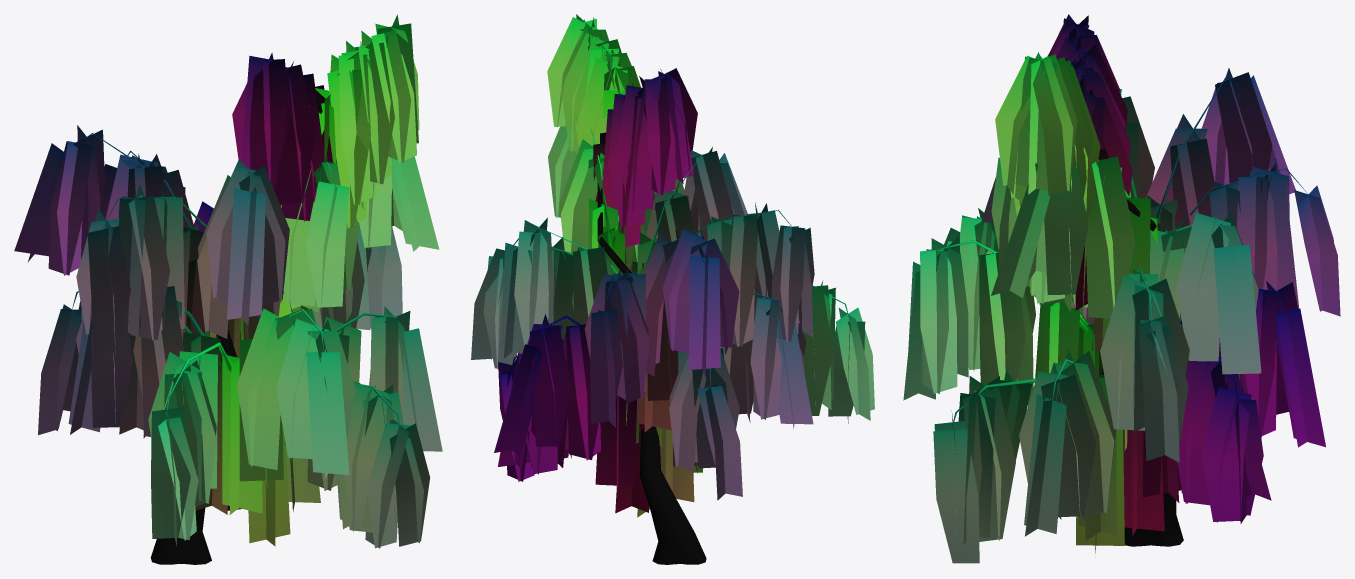
Rendered from Tree_7_9.fbx.
The picture shows the model from 3 angles, left to right: view 1: azimuth 30°, elevation 25°; view 2: azimuth 150°, elevation 25°; view 3: azimuth 270°, elevation 25°; orthographic projection. The views are drawn at different scales.
Visible parts, largest first — view 1: _9; view 2: _9; view 3: _9.
Part boxes in pixels (left/top/right/bottom): _9: left=14, top=14, right=442, bottom=564; _9: left=471, top=14, right=874, bottom=564; _9: left=903, top=14, right=1340, bottom=563.
Size of the model in its own units: 884 by 1275 by 893.
